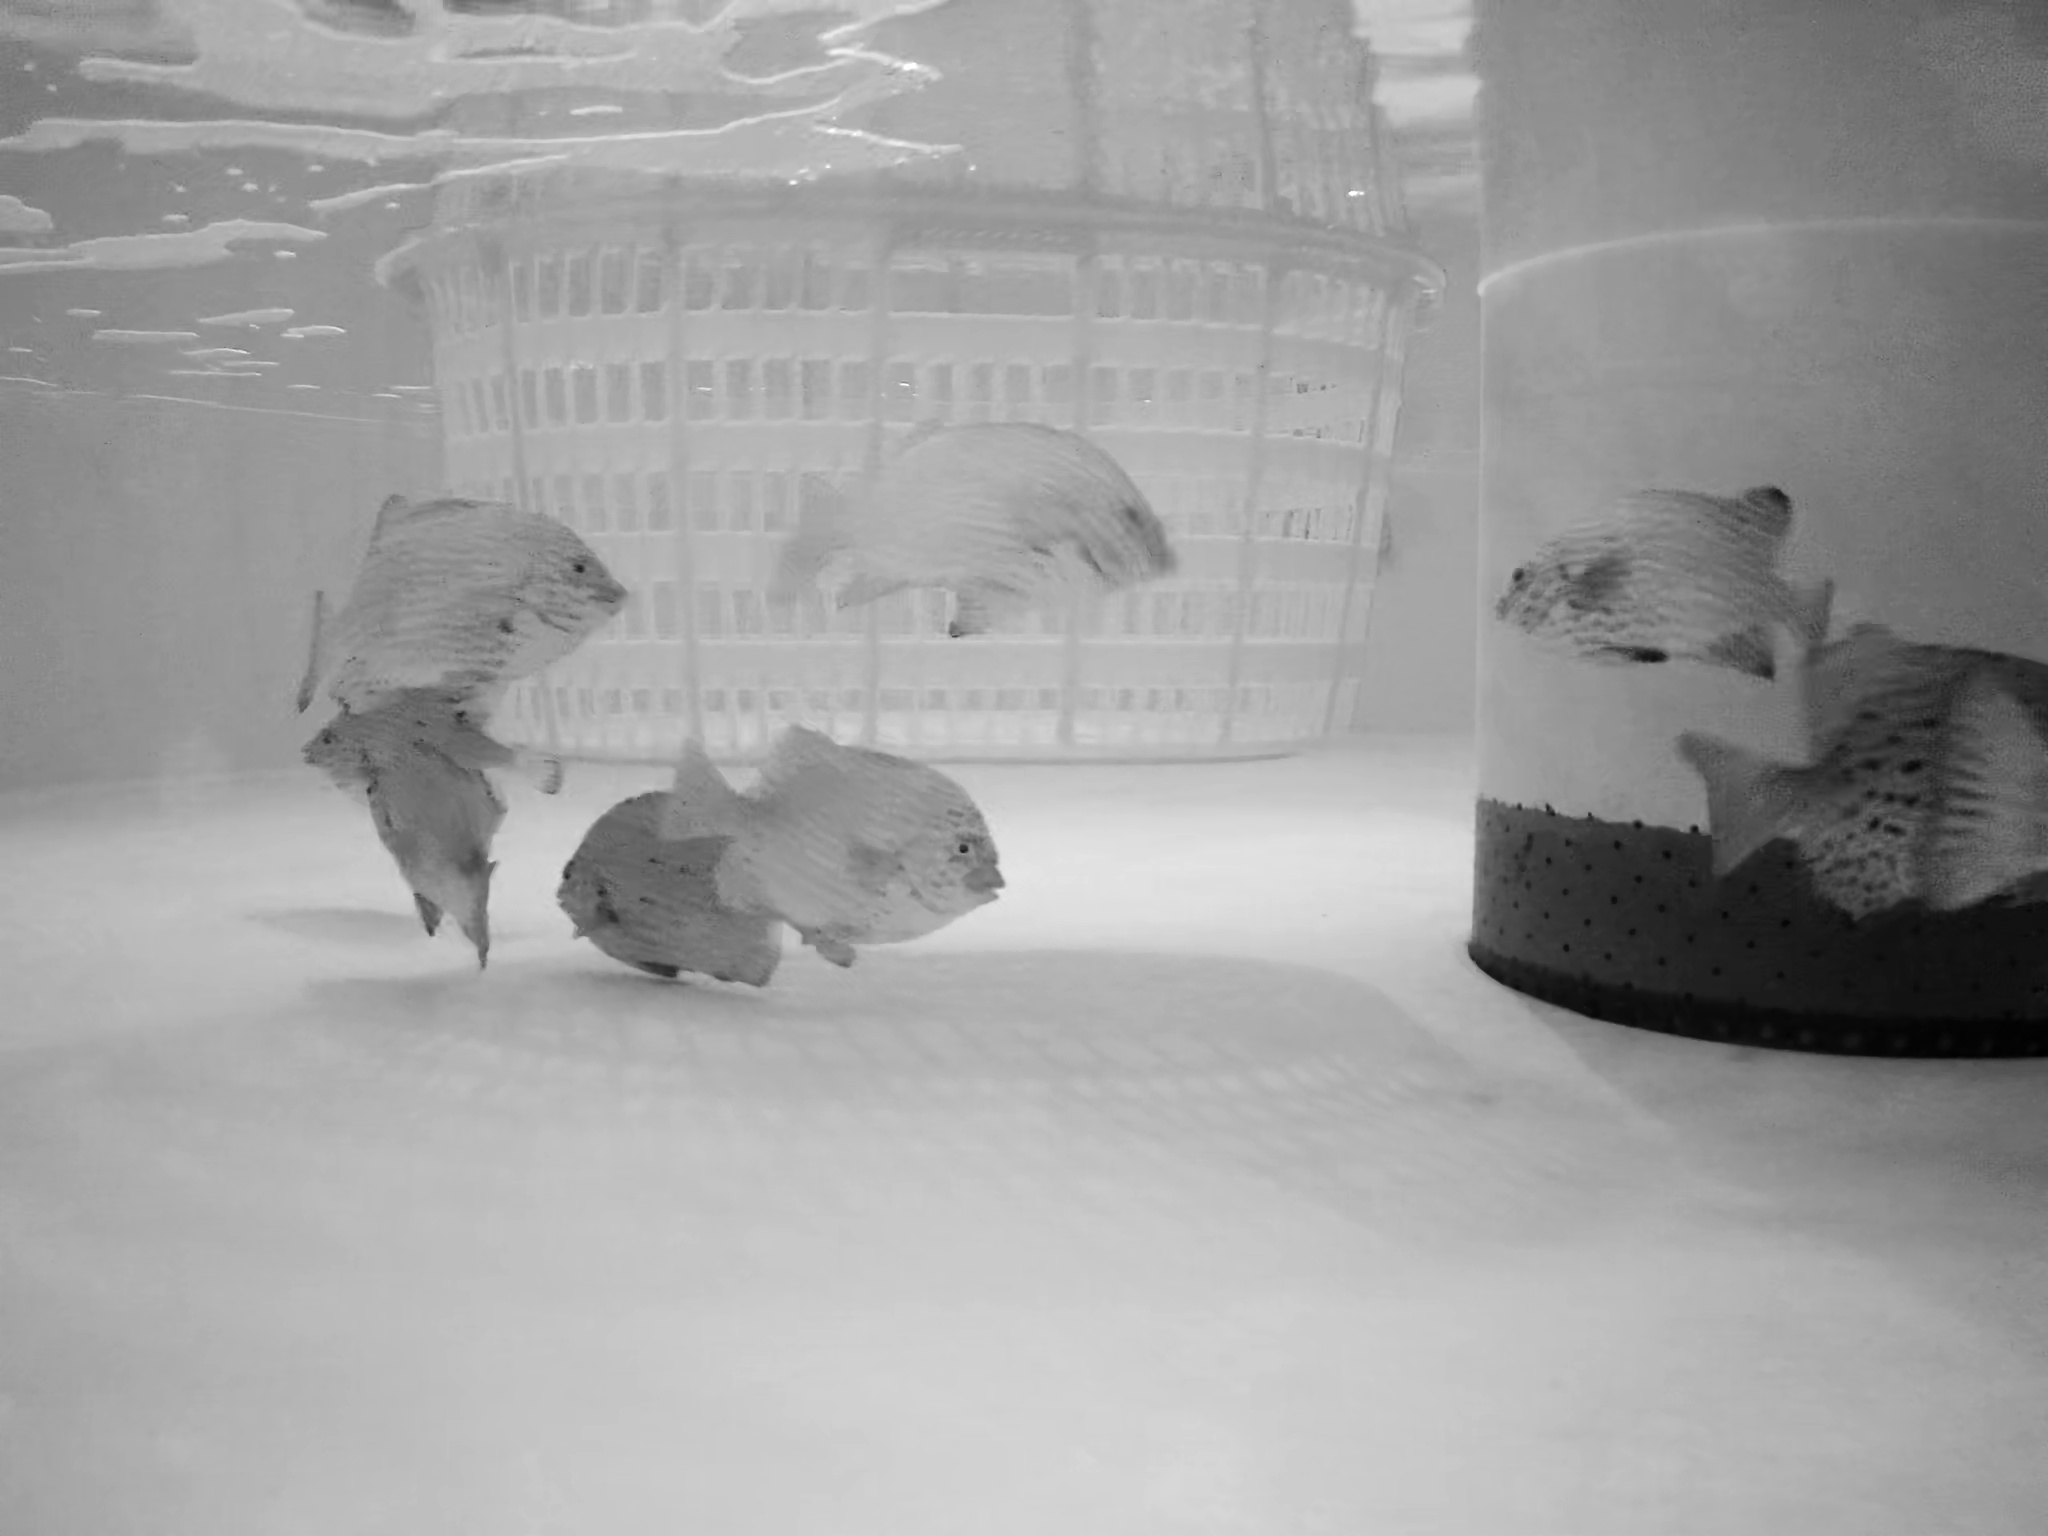fish: (1659, 624, 2048, 928), (763, 418, 1177, 647), (663, 713, 1006, 966), (285, 495, 631, 731), (1485, 482, 1835, 687), (558, 787, 843, 1010), (355, 729, 524, 973), (300, 687, 564, 818)
